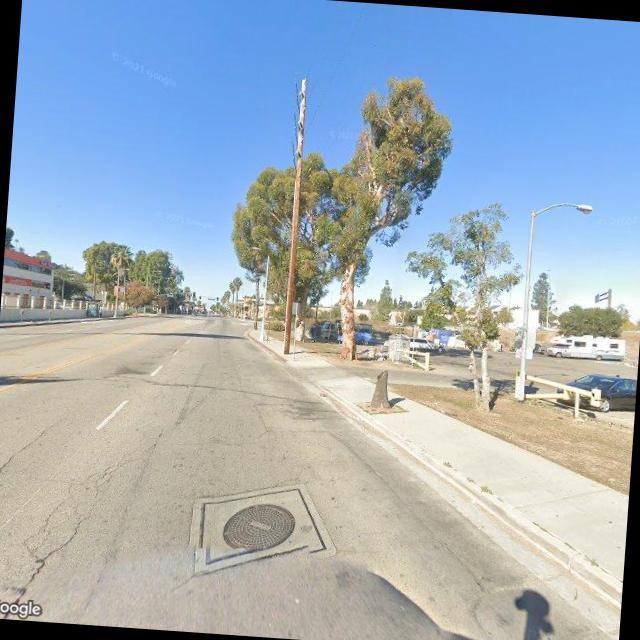pothole: (0, 415, 143, 626), (0, 411, 55, 503)
